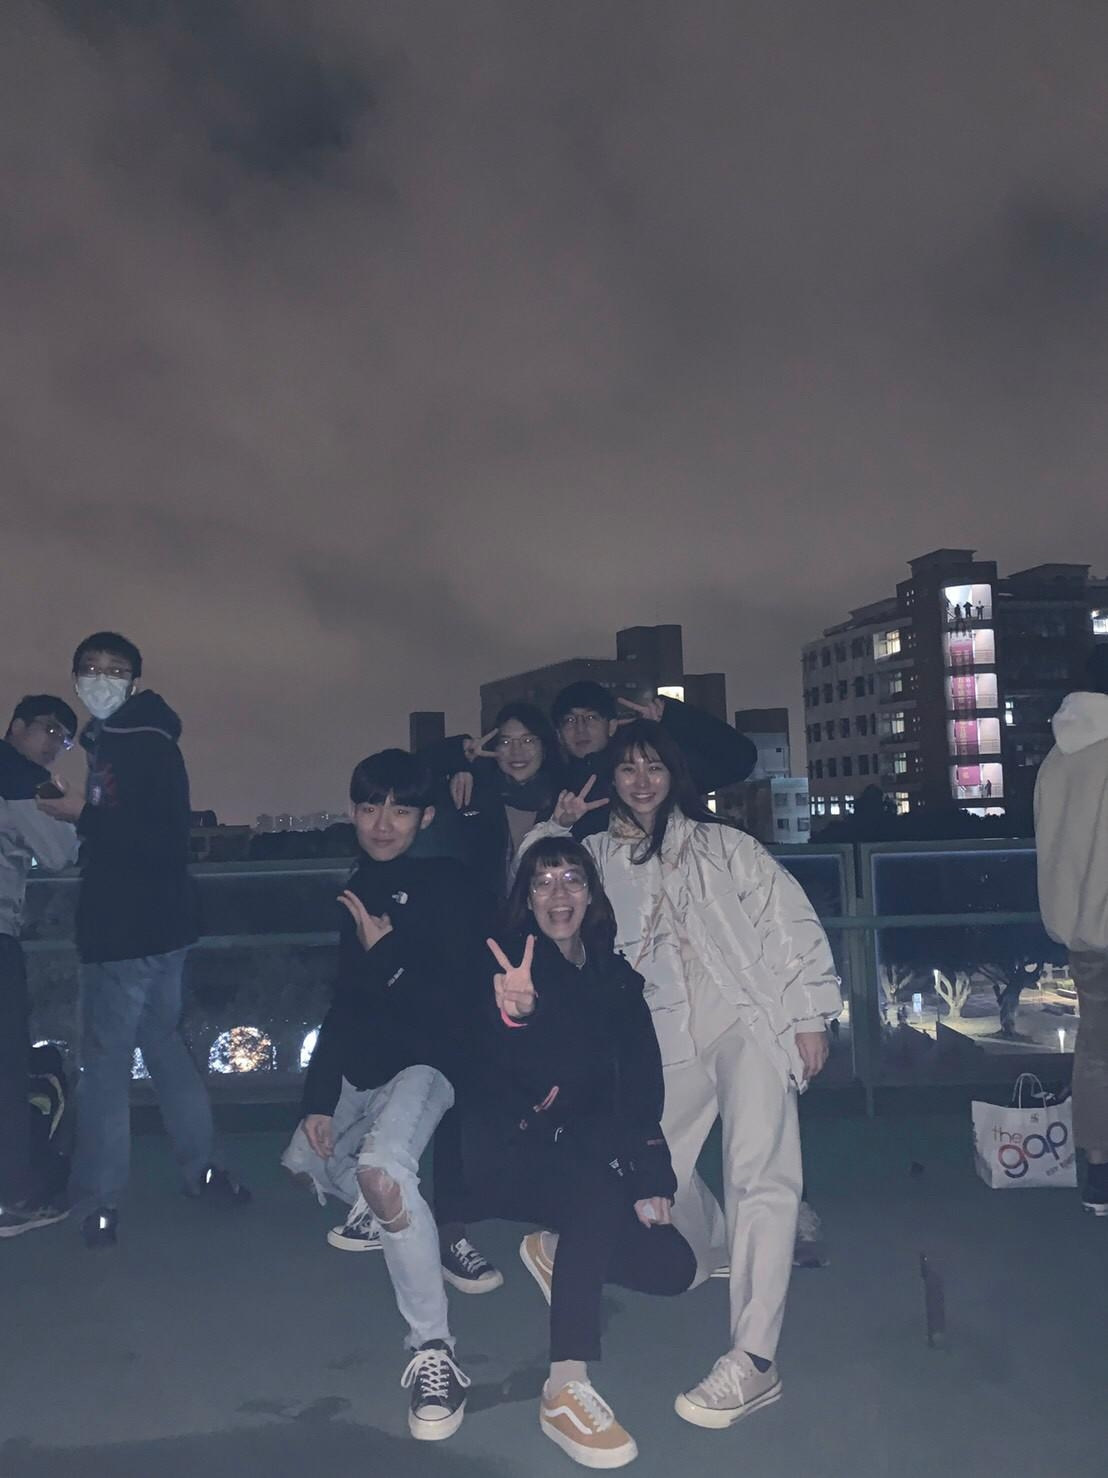people: (609, 726, 814, 1447), (312, 740, 493, 1440), (483, 840, 678, 1471), (59, 633, 247, 1221), (1017, 631, 1108, 1214), (12, 688, 76, 1214), (488, 697, 547, 876), (557, 676, 607, 807)
